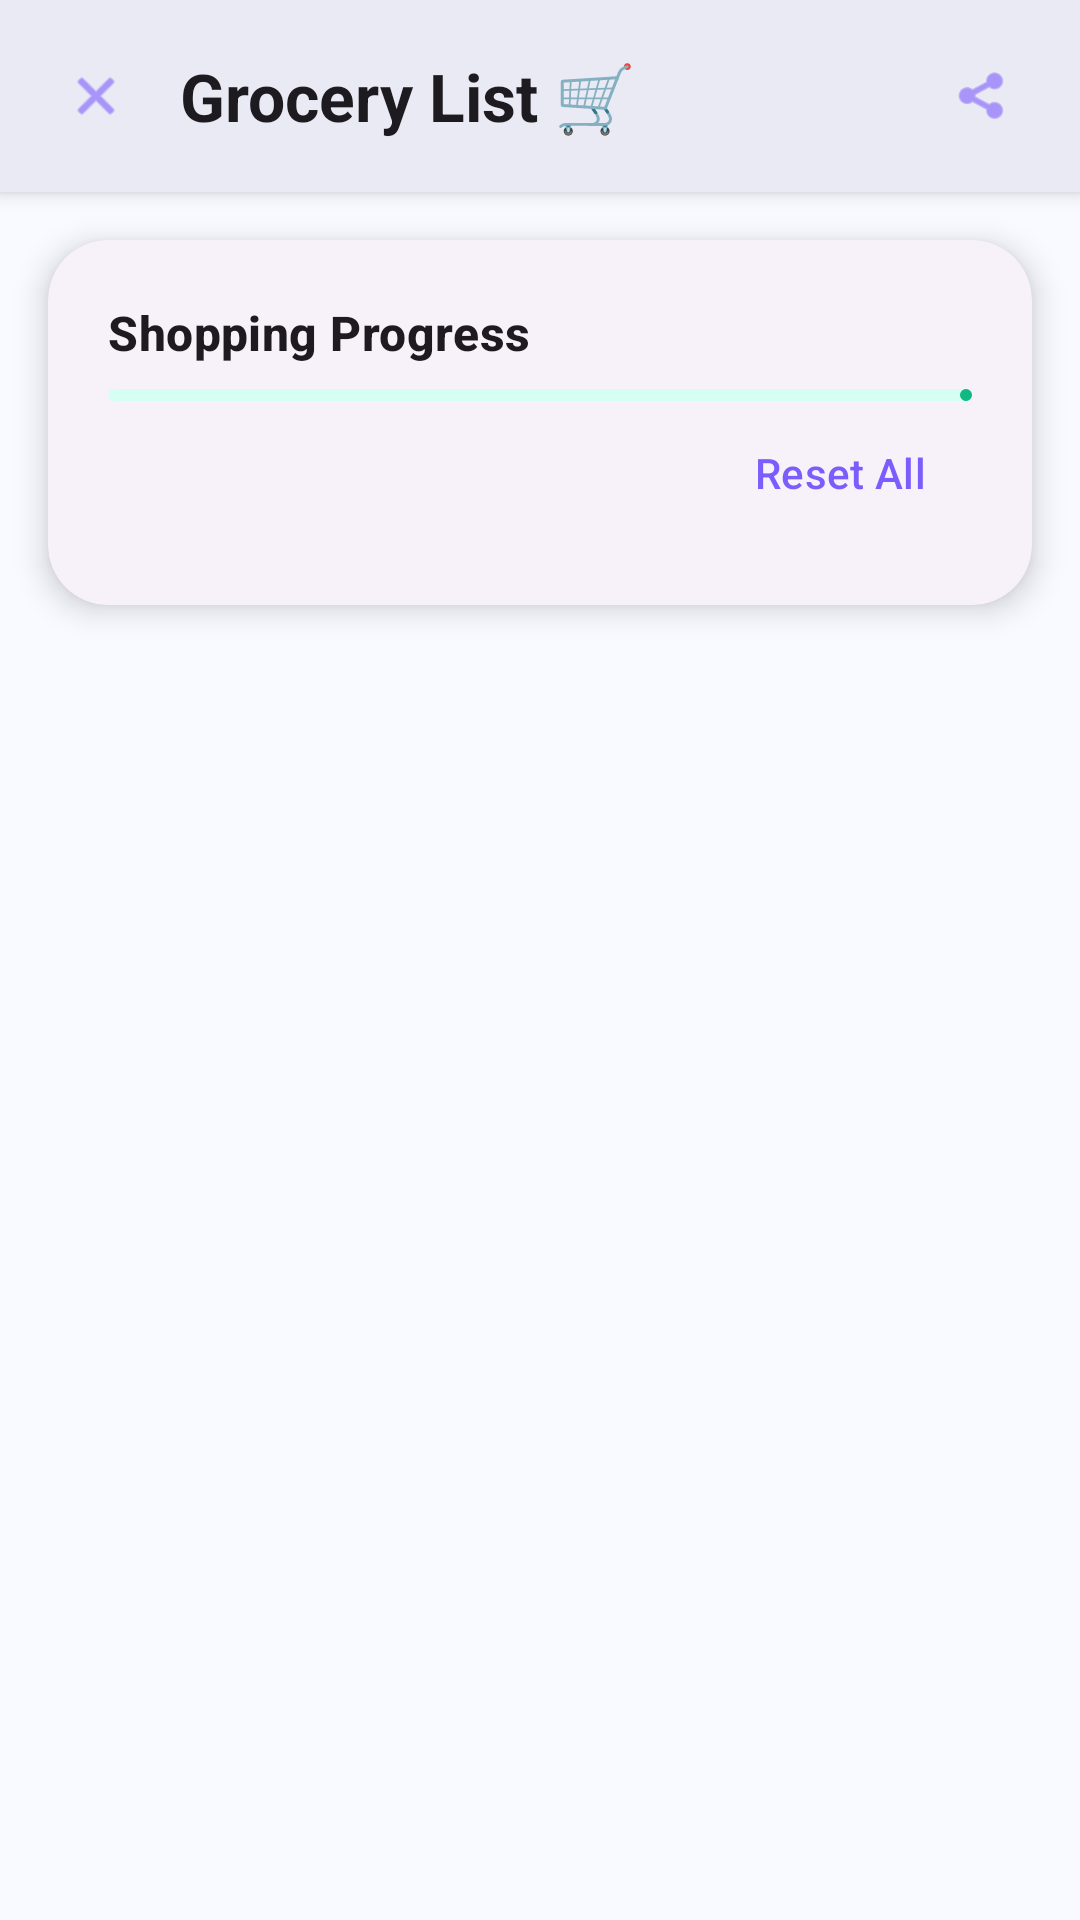

Icon click points for this 1080x1920 phone screenshot, format [x,y]:
Back: [96,96]
Share: [981,95]
